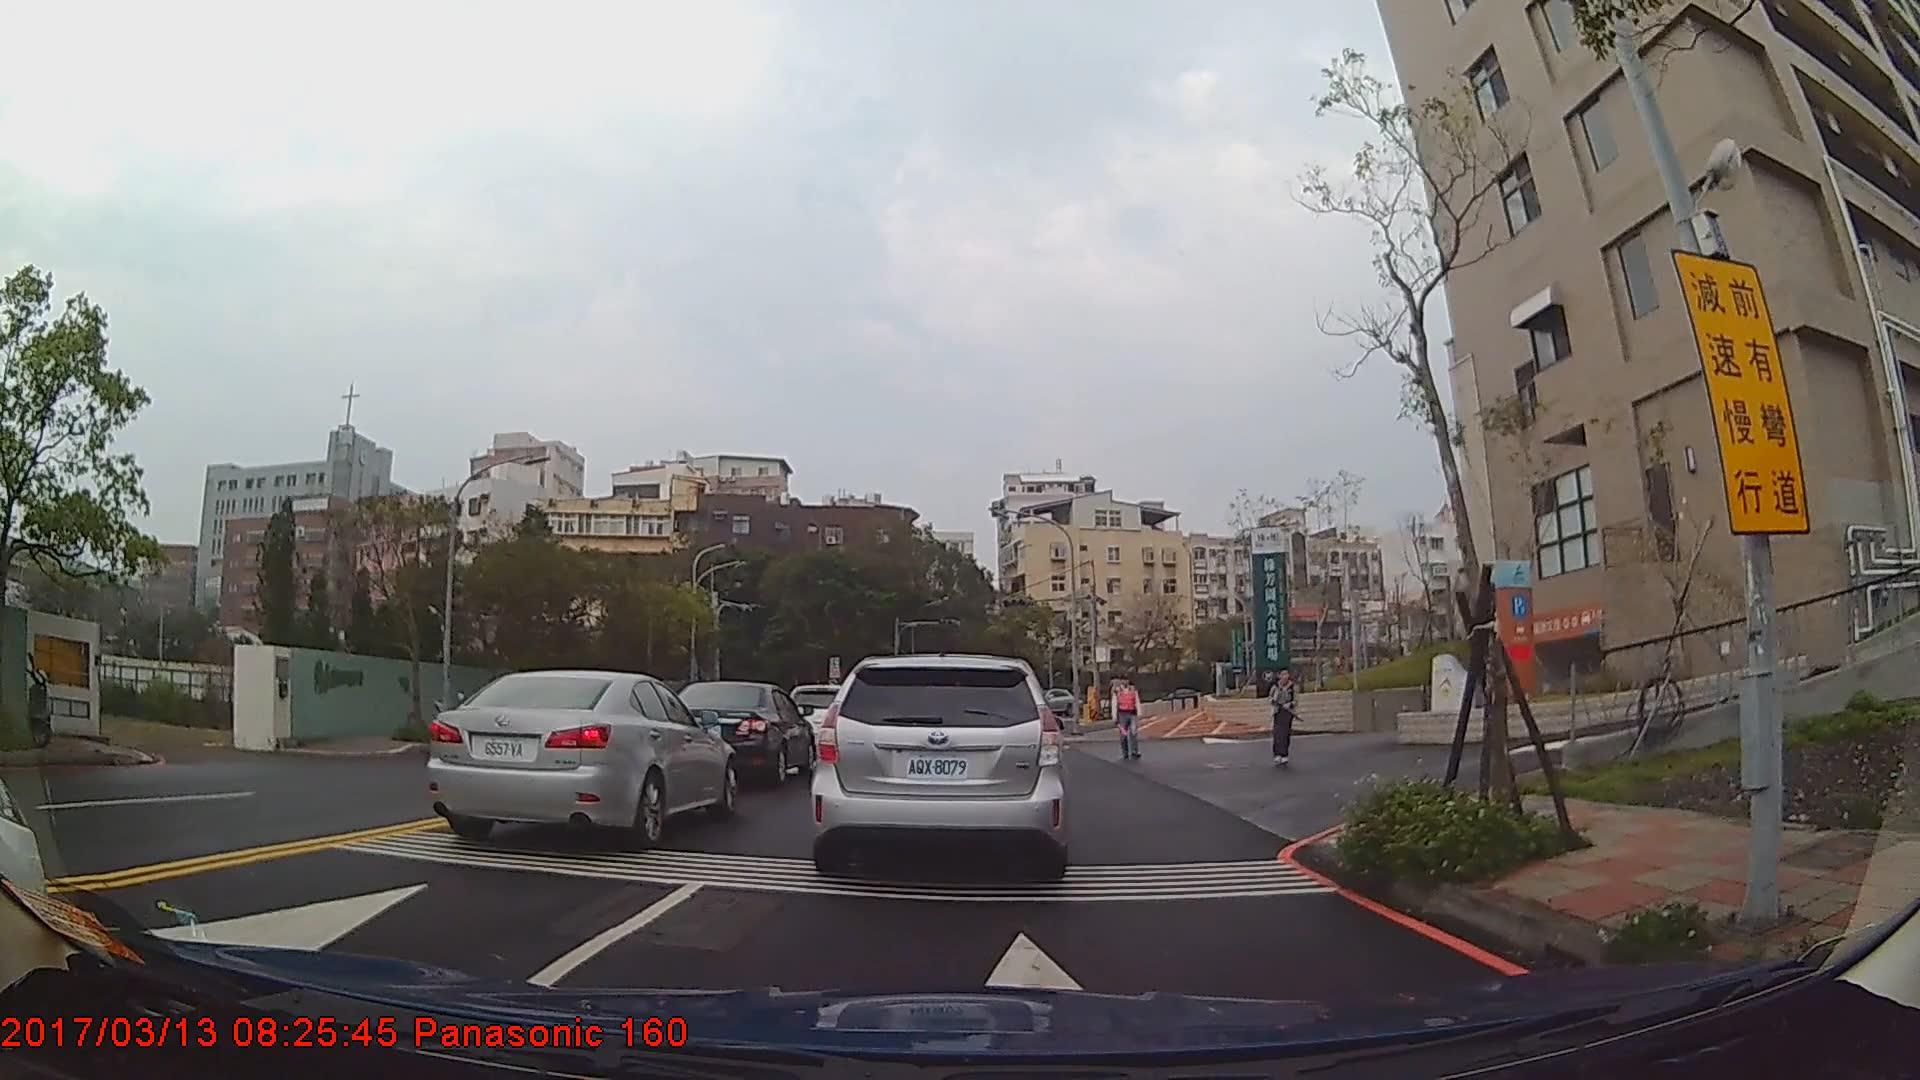pedestrian: (1270, 668, 1299, 767), (1114, 675, 1142, 765)
vehicle: (809, 652, 1070, 878), (425, 670, 736, 844), (661, 679, 814, 786)
